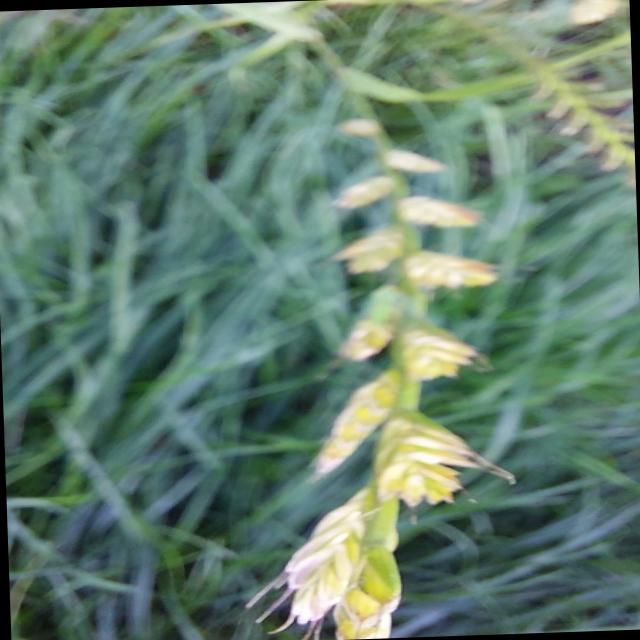Lolium: (221, 107, 527, 640)
